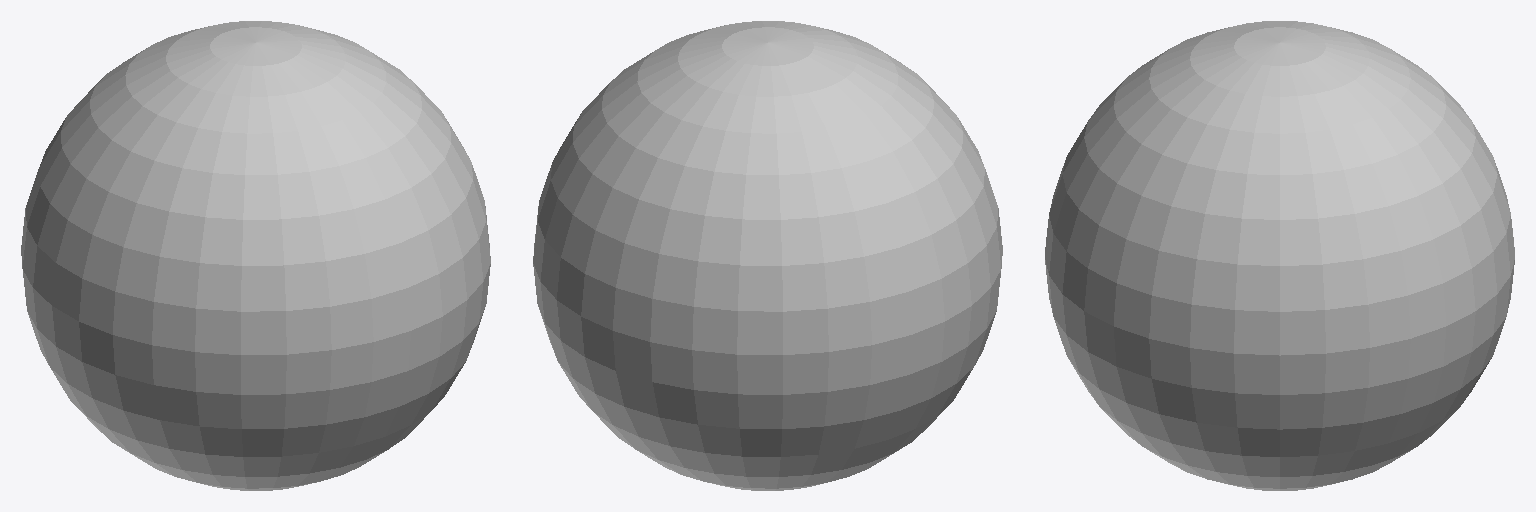
Rendered from earth.obj.
The picture shows the model from 3 angles: view 1: azimuth 30°, elevation 25°; view 2: azimuth 150°, elevation 25°; view 3: azimuth 270°, elevation 25°; orthographic projection.
Parts seen in each view (by area): view 1: Sphere01; view 2: Sphere01; view 3: Sphere01.
Boxes of the visible parts, box(x1,y1,x2,y2) form: Sphere01: box(21, 21, 490, 490); Sphere01: box(533, 21, 1002, 490); Sphere01: box(1045, 21, 1514, 490).
Size of the model in its own units: 71.57 by 71.57 by 71.57.